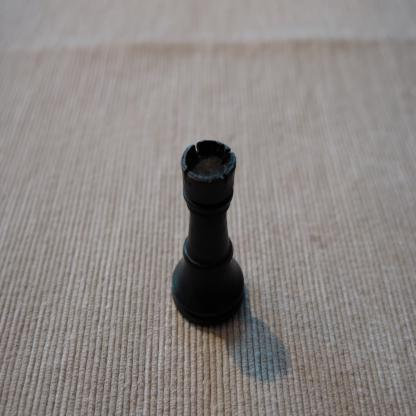black-rook: (170, 137, 245, 330)
